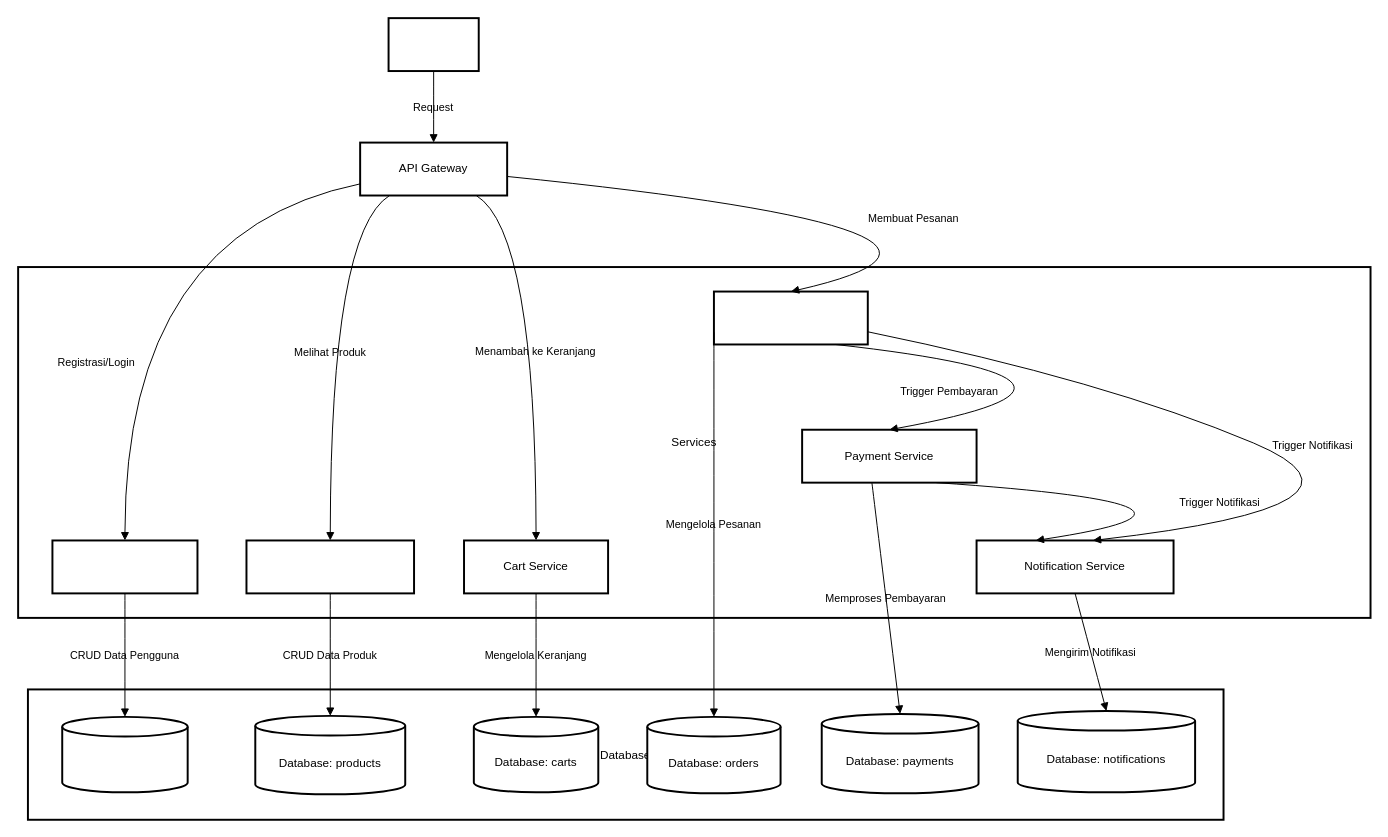
Image size: 1388x837. Some labels were removed from this diagram. The shapes that lost their labels are listed below. From the top down, each one's centre as x and y in pixels, then its label:
At [433,44]: "User".
At [790,317]: "Order Service".
At [124,566]: "User Service".
At [330,566]: "Product Service".
At [124,754]: "Database: users".
